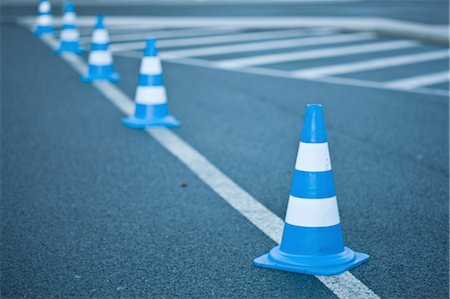cone: (252, 100, 377, 282), (120, 34, 181, 129), (81, 10, 123, 83), (53, 1, 91, 56), (30, 1, 56, 34)
